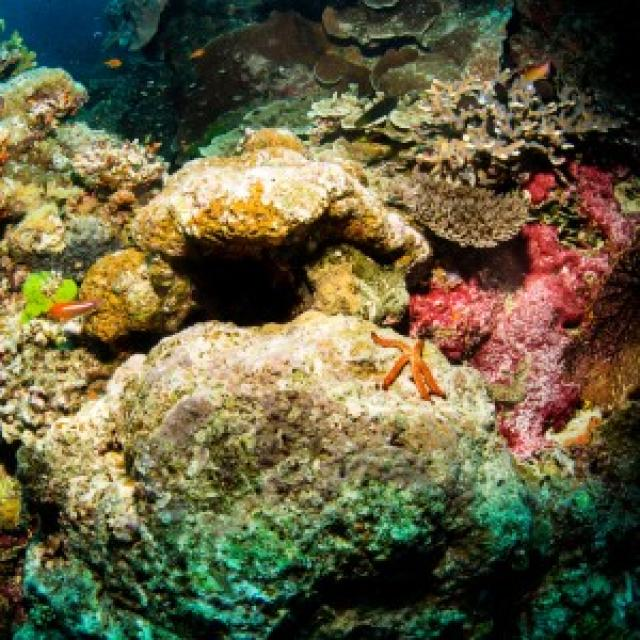Healthy: (108, 312, 545, 637), (411, 167, 639, 458), (411, 225, 609, 453), (54, 398, 223, 639), (131, 148, 430, 263), (1, 67, 165, 259), (374, 63, 583, 187), (530, 404, 639, 639), (327, 1, 513, 95), (1, 304, 112, 443), (562, 231, 639, 406), (82, 248, 195, 342), (398, 172, 528, 246)
